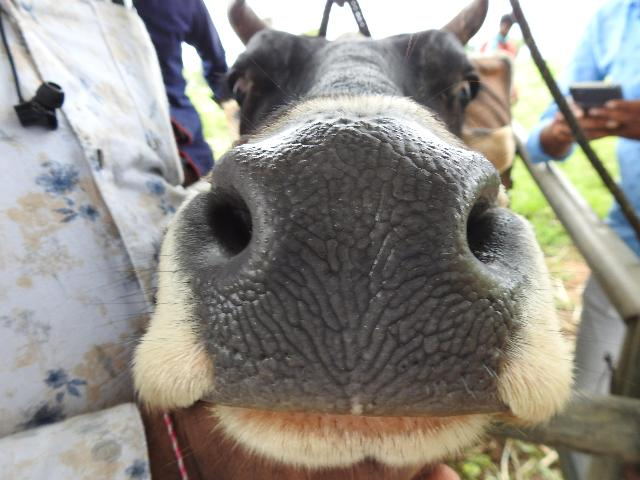Muzzle: (248, 146, 470, 398)
